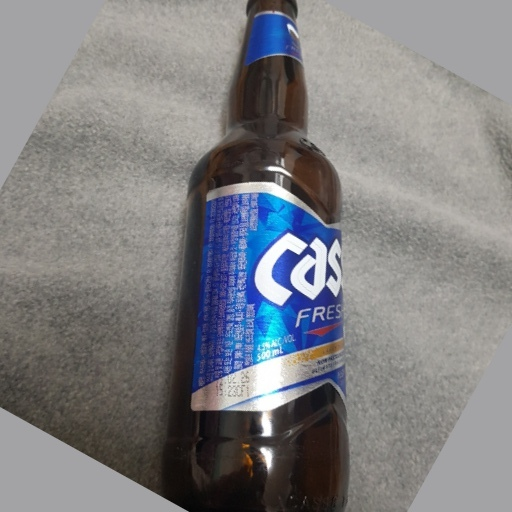Glass_1: (172, 1, 360, 512)
